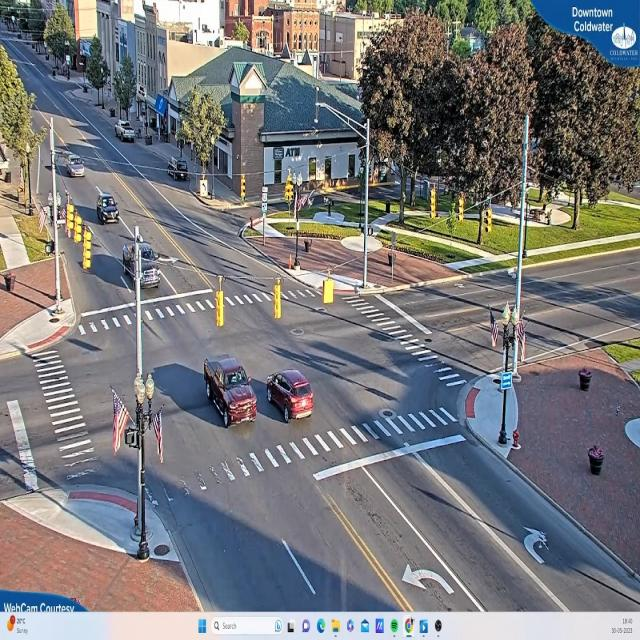car: (203, 358, 258, 428), (268, 371, 318, 424), (122, 240, 162, 296), (97, 190, 120, 225), (116, 122, 136, 142), (66, 162, 82, 177)
